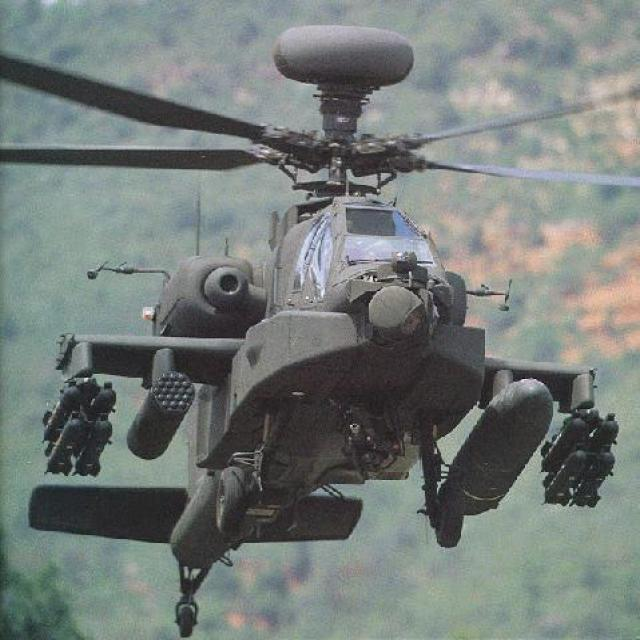MIL_HELO: (9, 24, 640, 638)
